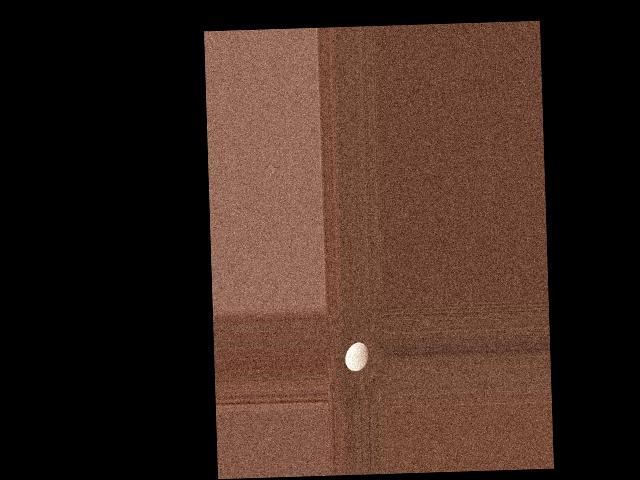egg: (345, 341, 368, 371)
